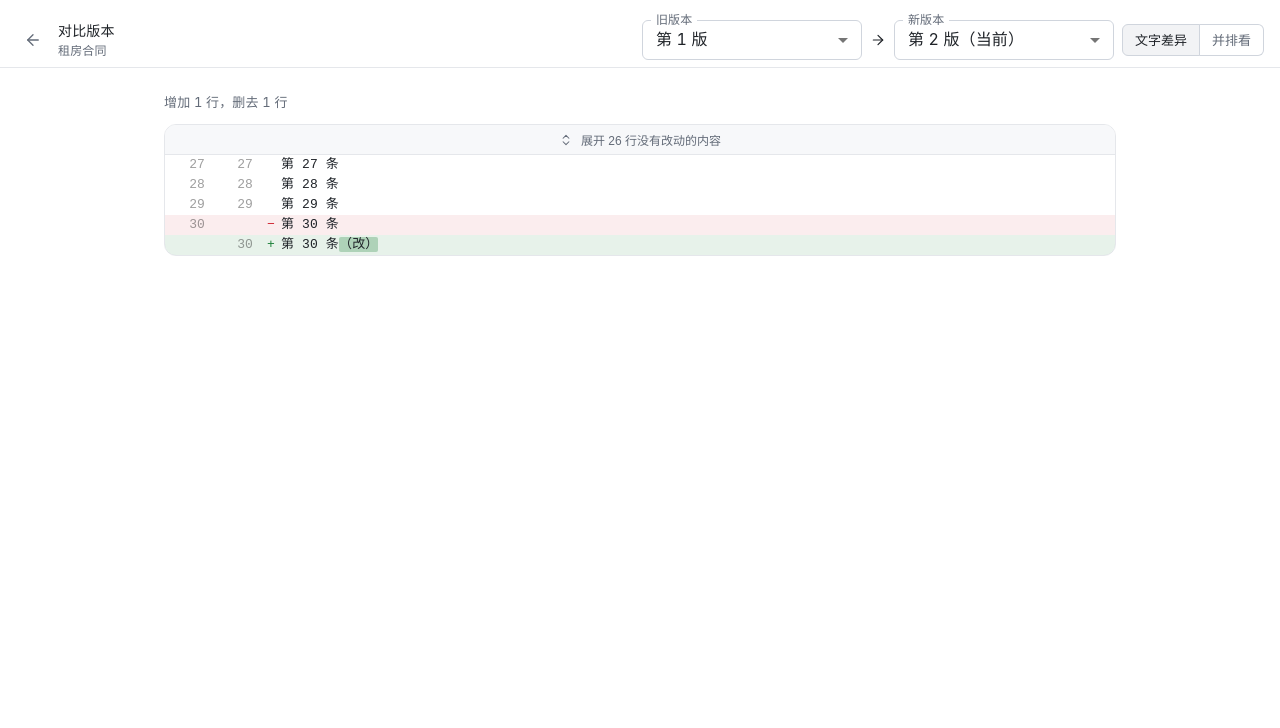
Test: 版本对比（v1.9.2） › 长段没改的内容折叠，可以展开
What coordinates should you click on to do the following:
click the button "展开 26 行没有改动的内容"
I would click on:
 (640, 140)
Its box is [165,125,1115,155].
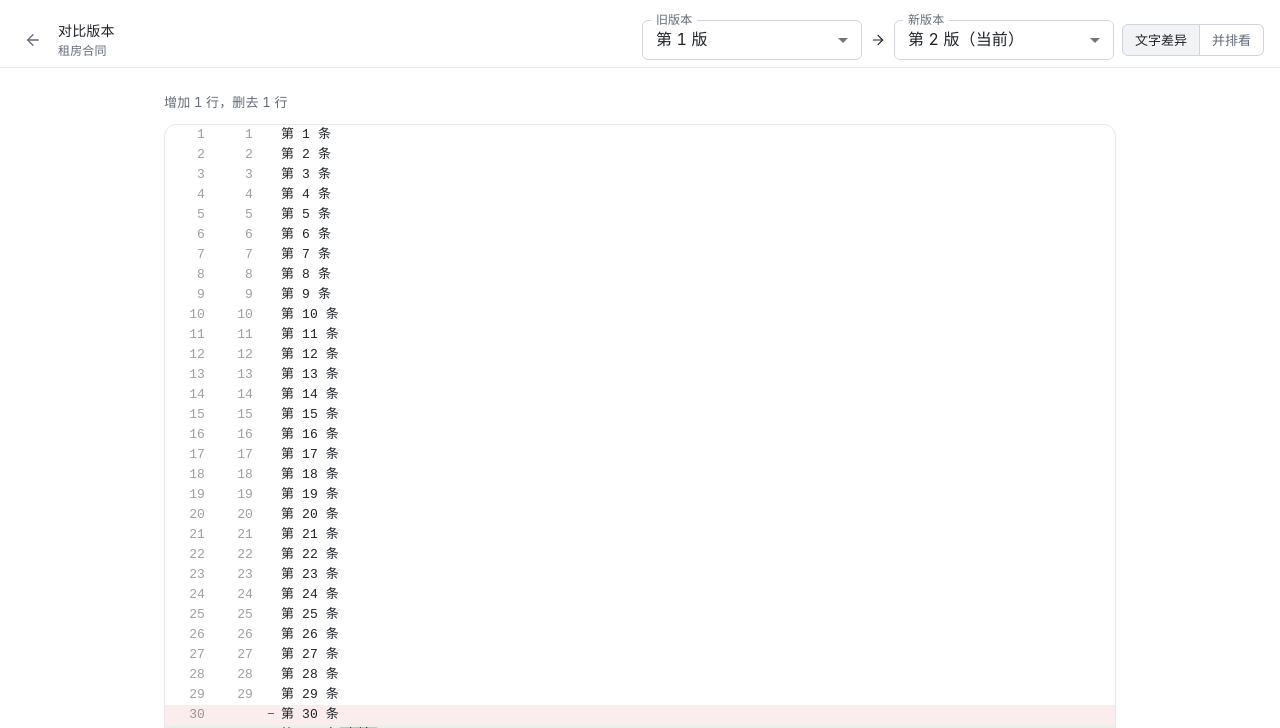
Check: the text "第 1 条" is shown, box [281,127,331,142]
